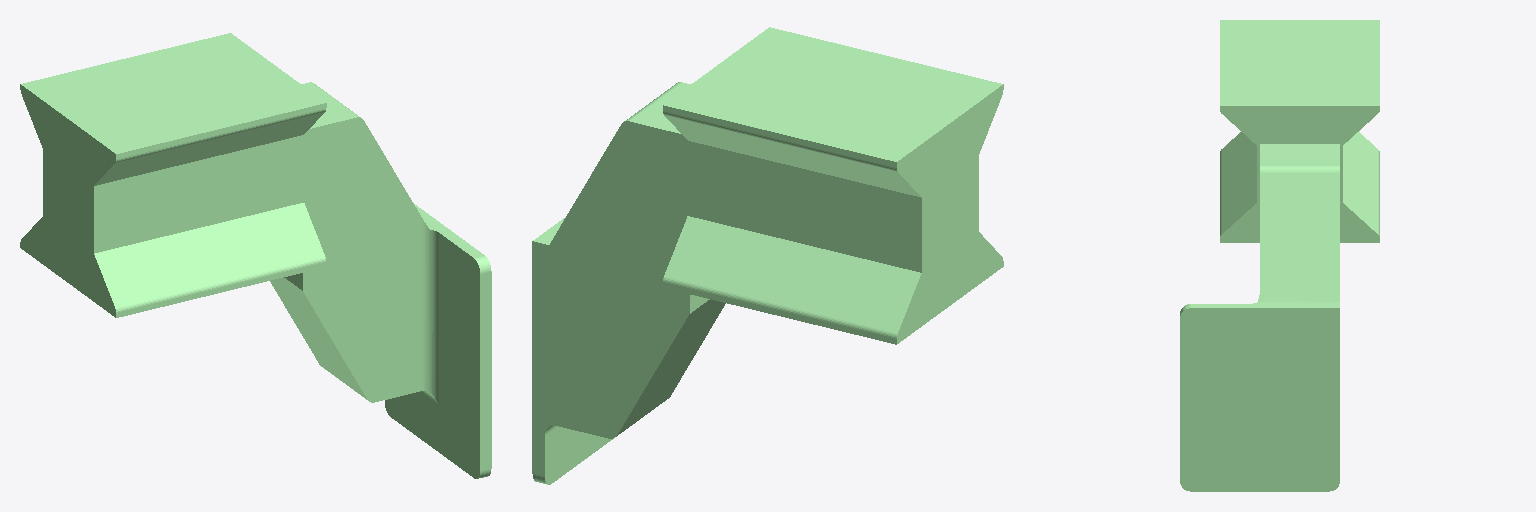
URDF robot description (wiping_utensil):
<?xml version="1.0" ?>
<robot name="wiping_utensil">
  <link name="wipebase">
    <inertial>
      <origin rpy="0 0 0" xyz="0 0 0"/>
      <mass value="0.072775"/>
      <inertia ixx="1.821E-05" ixy="-4.1084E-09" ixz="-1.448E-07" iyy="1.062E-05" iyz="-1.5136E-09" izz="1.0557E-05"/>
    </inertial>
    <visual>
      <origin rpy="0 0 0" xyz="0 0 0"/>
      <geometry>
        <mesh filename="utensil_base.stl"/>
      </geometry>
      <material name="">
        <color rgba="0.75294 1 0.75294 1"/>
      </material>
    </visual>
    <!-- <collision>
      <origin rpy="0 0 0" xyz="0 0 0"/>
      <geometry>
        <mesh filename="utensil_base.stl"/>
      </geometry>
    </collision> -->
  </link>
</robot>

--- What the picture shows (computed from the rendered views, not written in the file) ---
3 views of the same robot in one strip: view 1: azimuth 30°, elevation 25°; view 2: azimuth 150°, elevation 25°; view 3: azimuth 270°, elevation 25° (orthographic).
Model wiping_utensil with 1 links and 0 joints (none), rooted at wipebase, posed all joints at 0.
Links seen in each view (by area): view 1: wipebase; view 2: wipebase; view 3: wipebase.
Boxes of the visible links, bbox=[...] form: wipebase: bbox=[20, 33, 491, 478]; wipebase: bbox=[532, 27, 1003, 484]; wipebase: bbox=[1180, 20, 1379, 491].
Size in the robot's own frame: 0.127 by 0.075 by 0.1362 metres.
1 mesh visuals loaded from 1 distinct referenced files (1 binary STL).